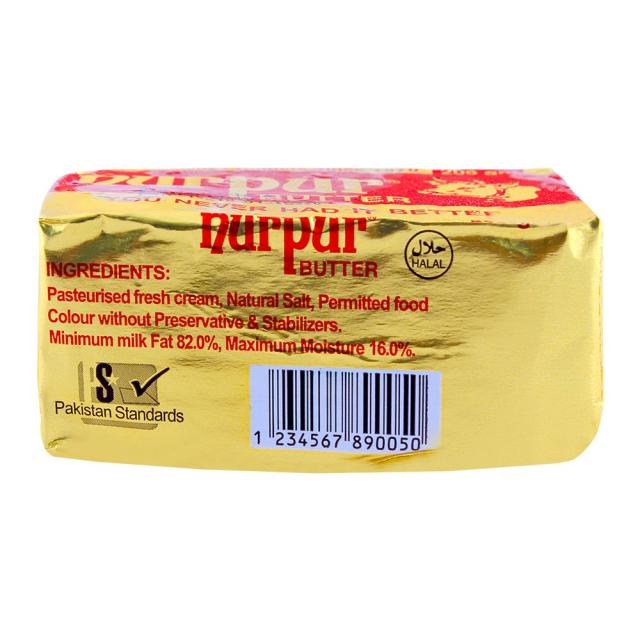butter: (37, 166, 604, 473)
